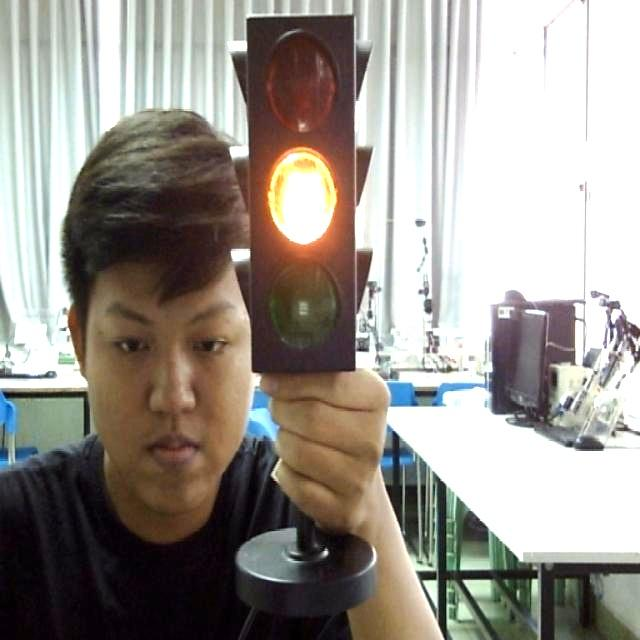Yellow: (238, 11, 384, 382)
